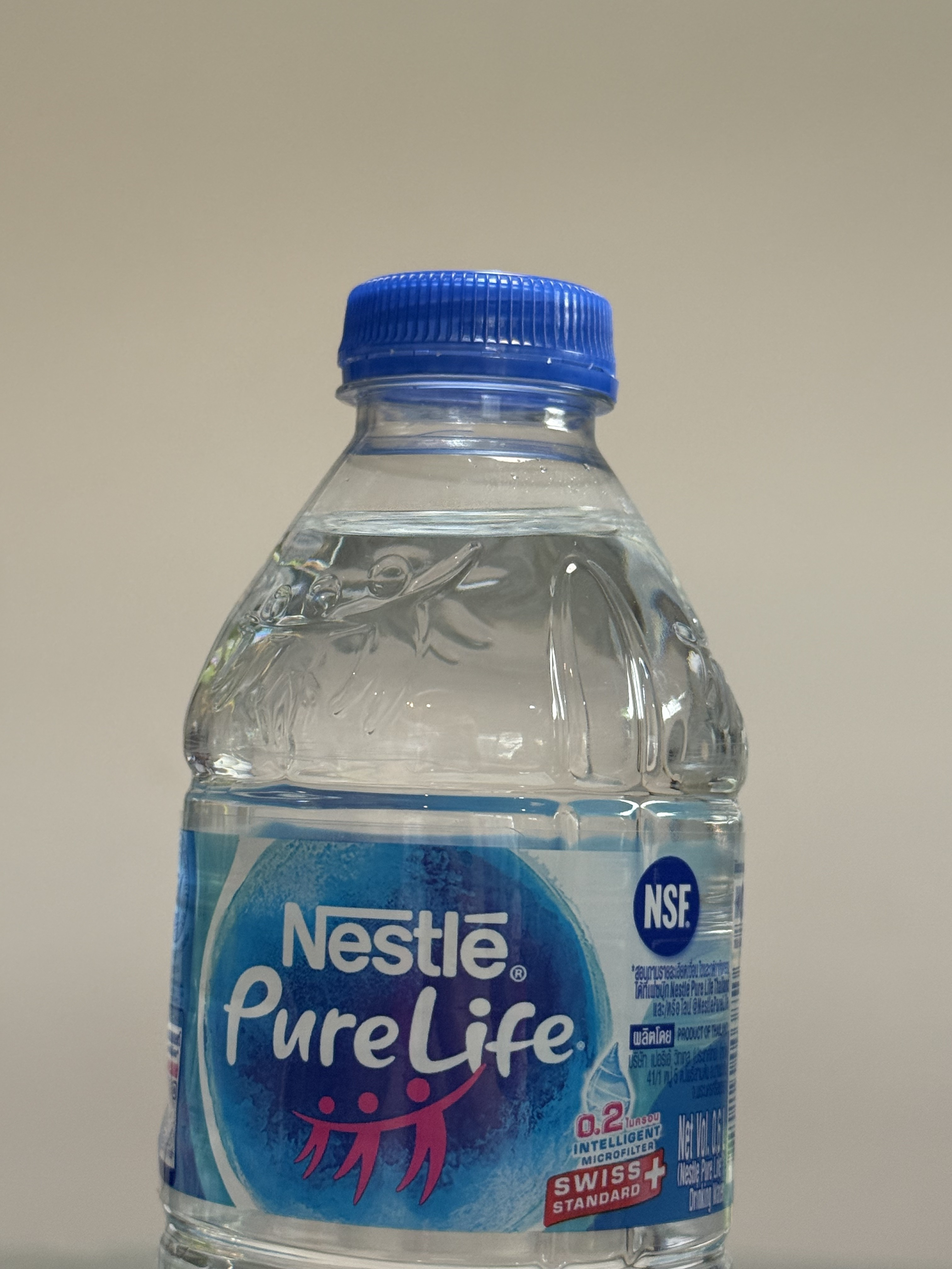closed_cap: (333, 264, 621, 409)
